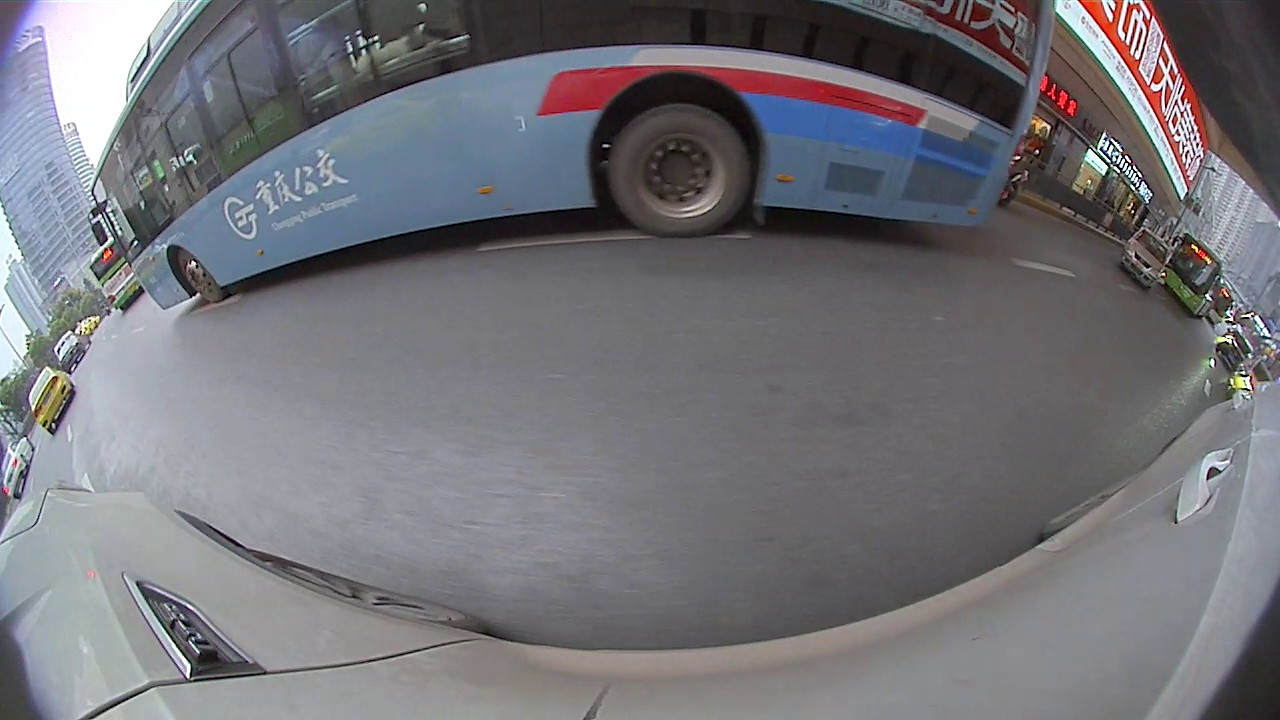car: (705, 31, 1044, 284), (24, 247, 122, 349), (1212, 442, 1278, 564), (1103, 275, 1188, 366), (1077, 238, 1142, 293), (1191, 355, 1231, 413)
front: (991, 240, 1034, 286), (51, 327, 74, 352)
rear: (809, 183, 881, 256)
